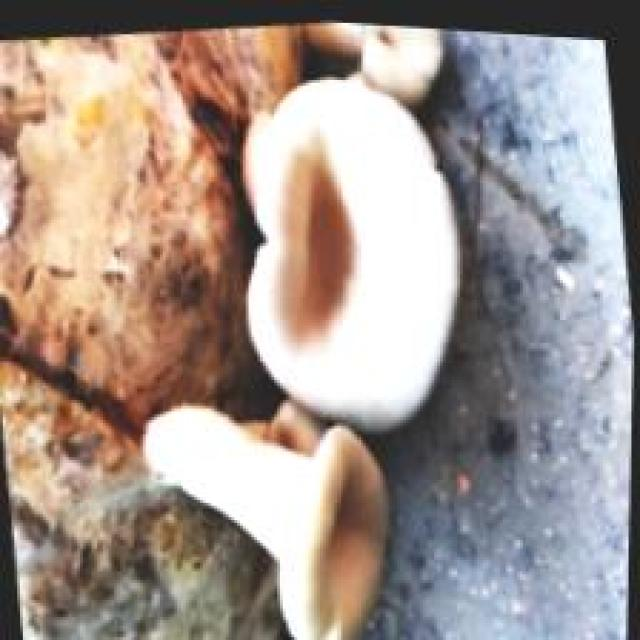death-cap: (237, 71, 460, 432)
